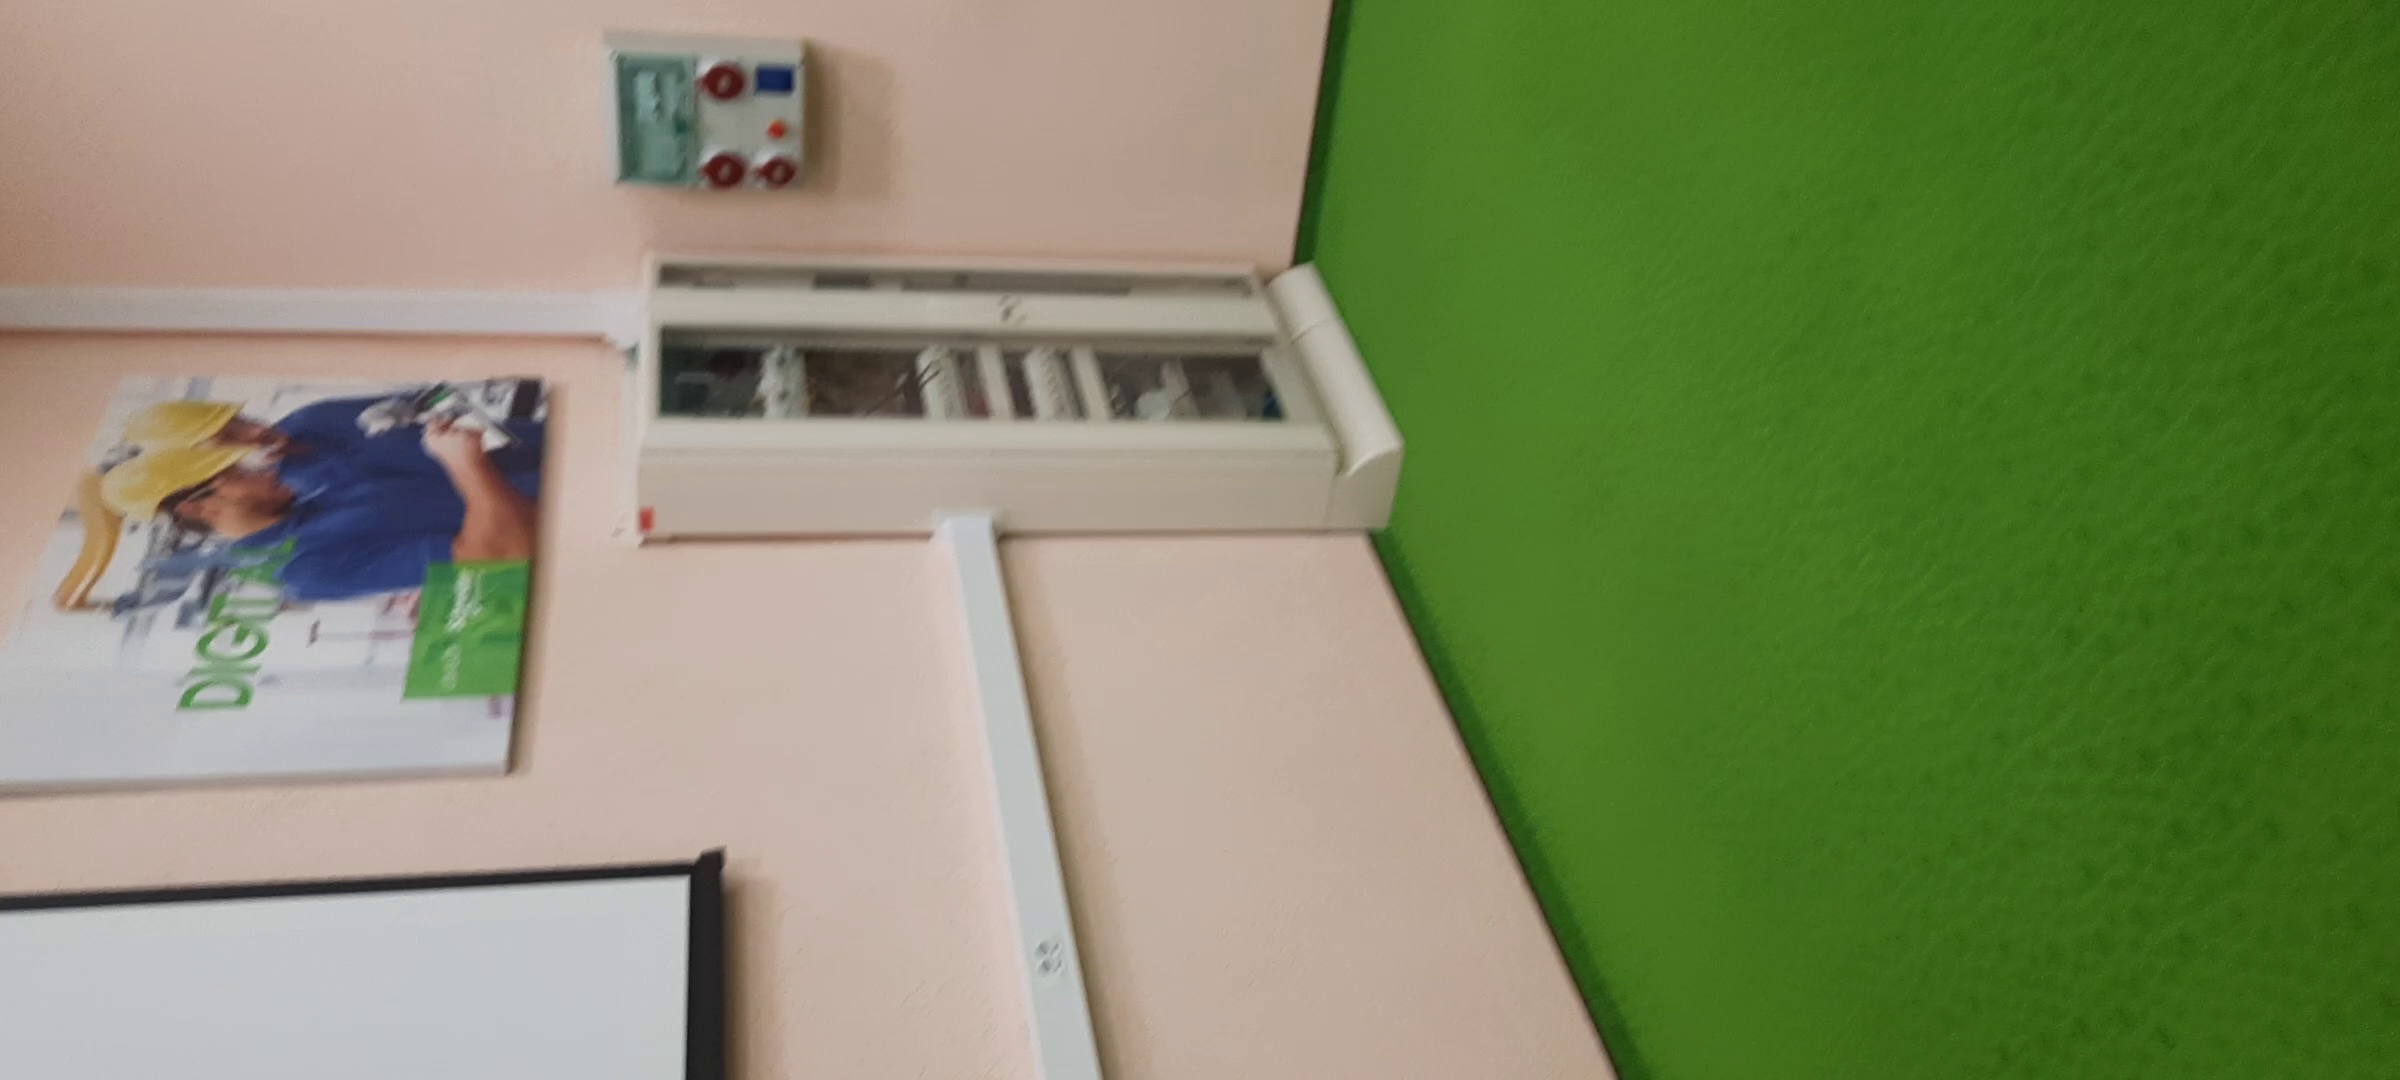stand1: (632, 249, 1388, 531)
